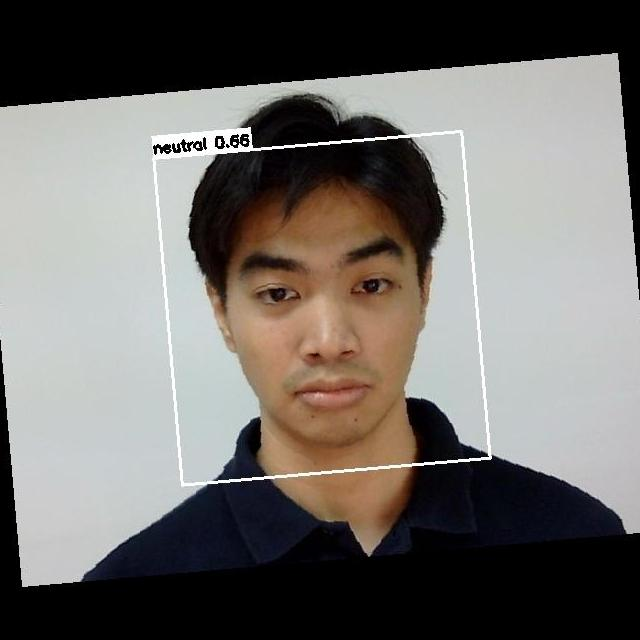Fear: (207, 218, 439, 425)
